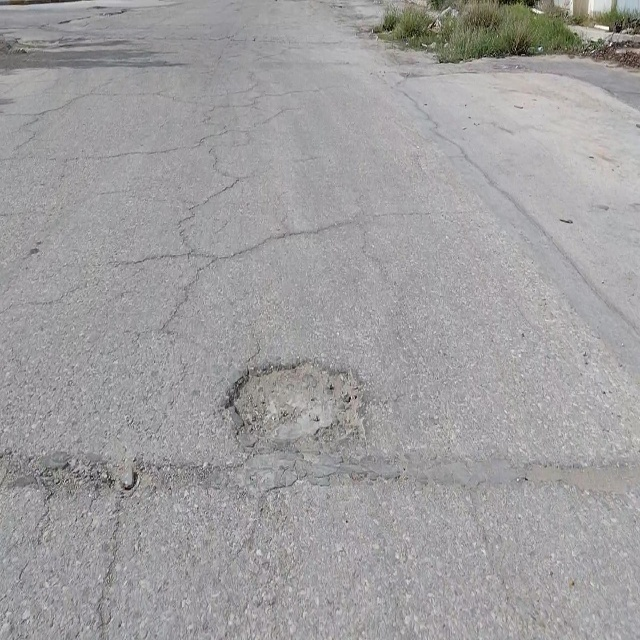pothole: (220, 356, 366, 447)
